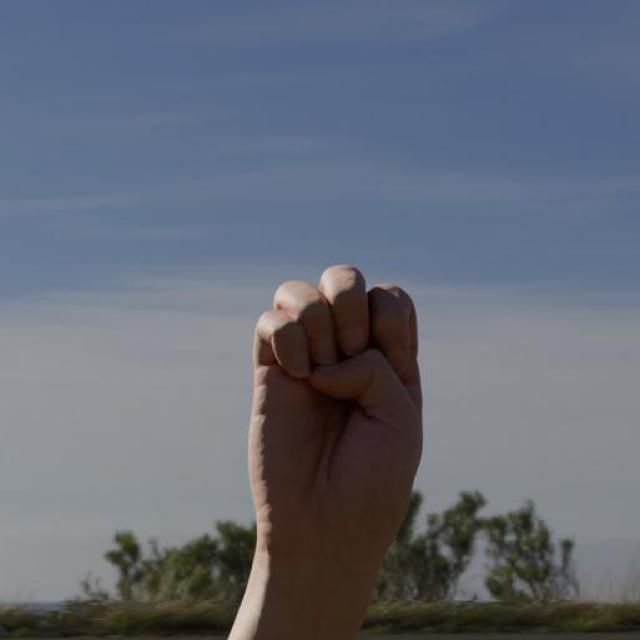E: (242, 262, 430, 552)
